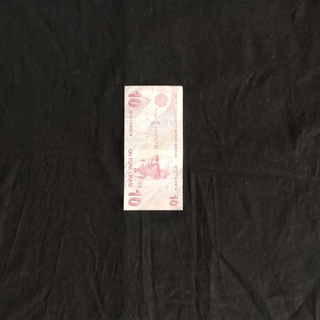10TLBack: (122, 84, 184, 211)
